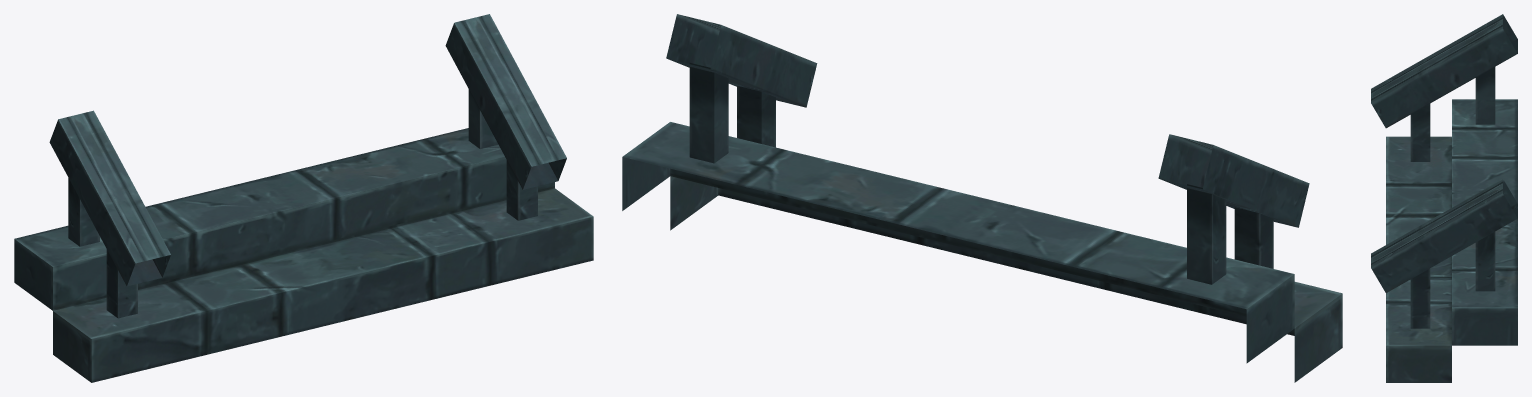
The model's file is Stage_DiXiaCheng_LouTi02.FBX.
3 renders of one model, left to right at view 1: azimuth 30°, elevation 25°; view 2: azimuth 150°, elevation 25°; view 3: azimuth 270°, elevation 25°, orthographic. The views are drawn at different scales.
Visible parts, largest first — view 1: Stage_DiXiaCheng_LouTi02; view 2: Stage_DiXiaCheng_LouTi02; view 3: Stage_DiXiaCheng_LouTi02.
Part boxes in pixels (x1,y1,x2,y2): Stage_DiXiaCheng_LouTi02: (14, 14, 593, 382); Stage_DiXiaCheng_LouTi02: (622, 14, 1342, 382); Stage_DiXiaCheng_LouTi02: (1371, 14, 1517, 382).
Size of the model in its own units: 600 by 234 by 178.
